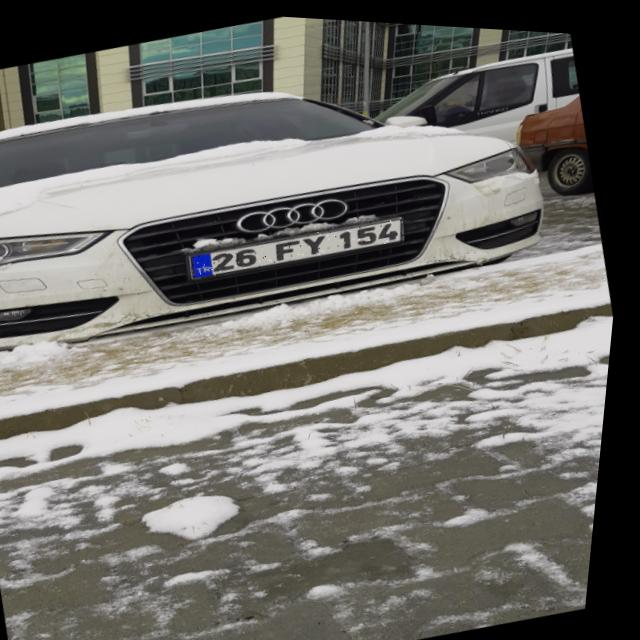license_plate: (192, 201, 411, 286)
